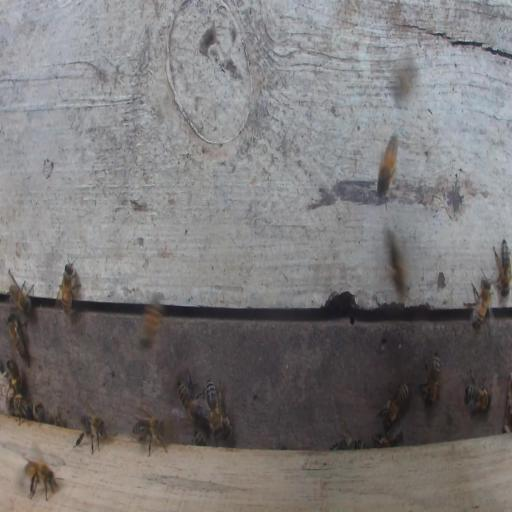nonpollenbee: (465, 269, 493, 332), (23, 457, 58, 502), (178, 372, 205, 430), (131, 415, 168, 457), (376, 134, 399, 201), (378, 381, 410, 426), (76, 411, 108, 454), (385, 229, 406, 293), (8, 270, 34, 316), (420, 350, 441, 404), (492, 238, 511, 297), (7, 312, 29, 361), (205, 378, 223, 437), (373, 425, 403, 448), (60, 262, 73, 314), (466, 384, 492, 410), (10, 394, 31, 418), (223, 413, 233, 441), (195, 429, 207, 446), (35, 403, 44, 422)
pollenbee: (6, 359, 21, 392)
